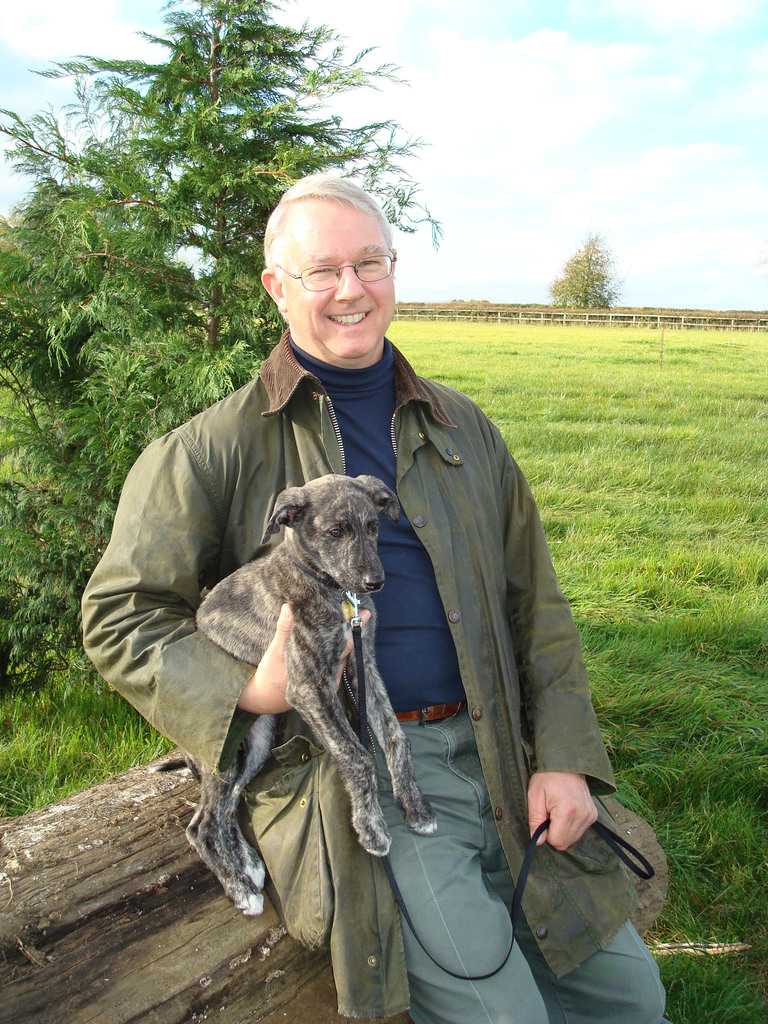Person: (82, 175, 664, 1024)
